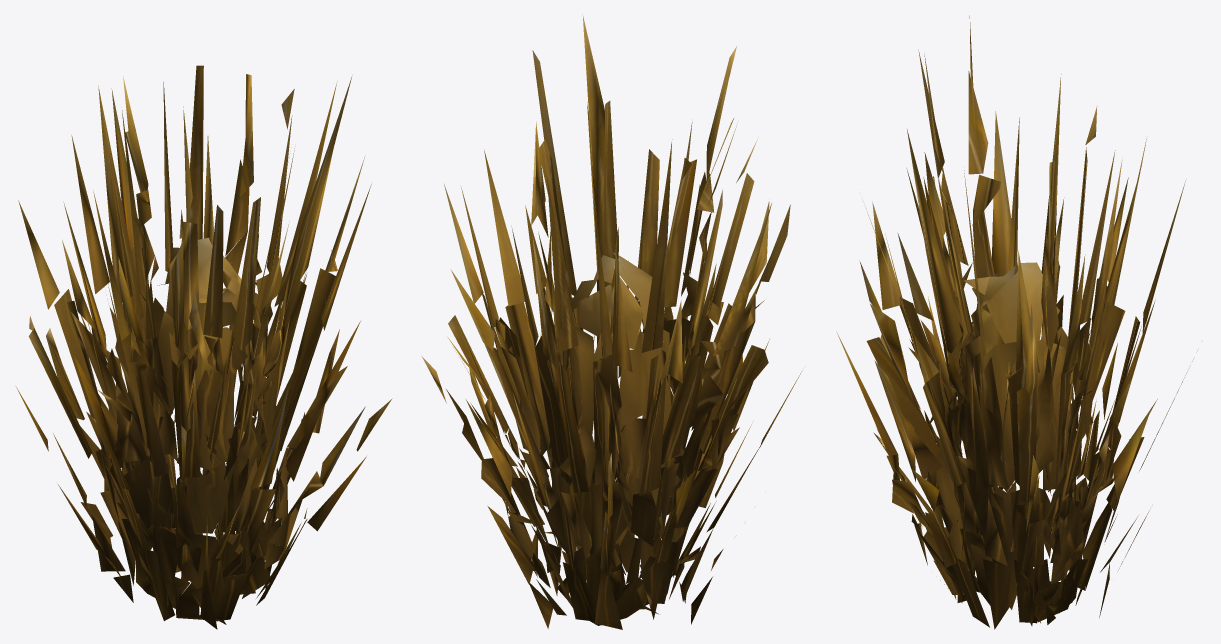
The model's file is desert_grass_blades_single_lod1.glb.
The picture shows the model from 3 angles, left to right: view 1: azimuth 30°, elevation 25°; view 2: azimuth 150°, elevation 25°; view 3: azimuth 270°, elevation 25°; orthographic projection. The views are drawn at different scales.
Visible parts, largest first — view 1: desert_grass_blades_single.001; view 2: desert_grass_blades_single.001; view 3: desert_grass_blades_single.001.
Boxes of the visible parts, x1=… form: desert_grass_blades_single.001: x1=16, y1=65, x2=392, y2=629; desert_grass_blades_single.001: x1=421, y1=14, x2=801, y2=629; desert_grass_blades_single.001: x1=836, y1=15, x2=1197, y2=629.
Bounding box in the file's own units: 0.6118 × 0.996 × 0.6141.
Materials: 1 (1 with a texture image).
